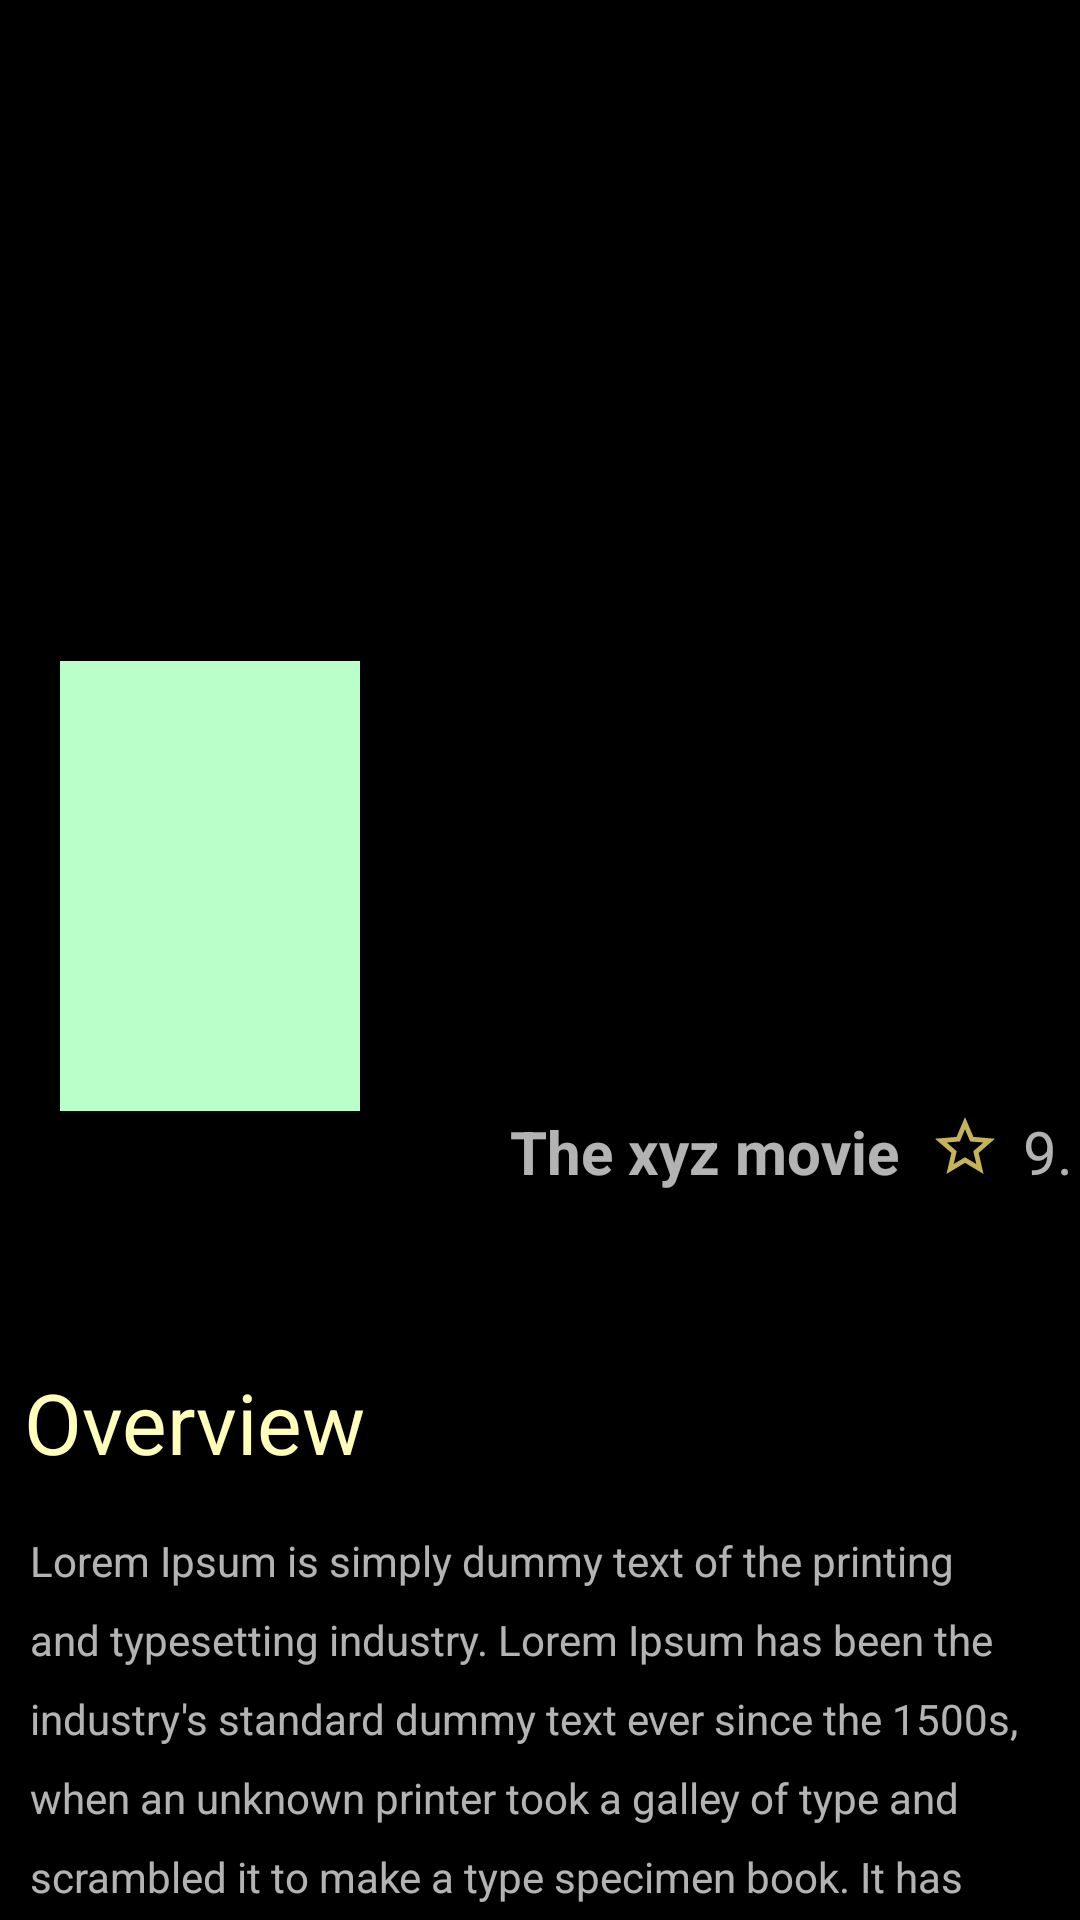

Icons on this 1080px×1920px Android screen, each with its box as [left=x1, top=y1, right=x2, bottom=y2]:
star border: [left=935, top=1117, right=995, bottom=1174]
